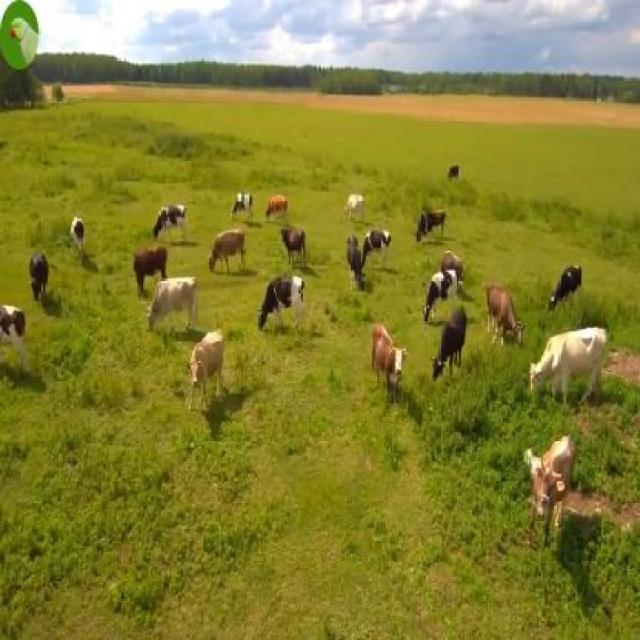Cow: (530, 326, 608, 420), (146, 276, 199, 338)
